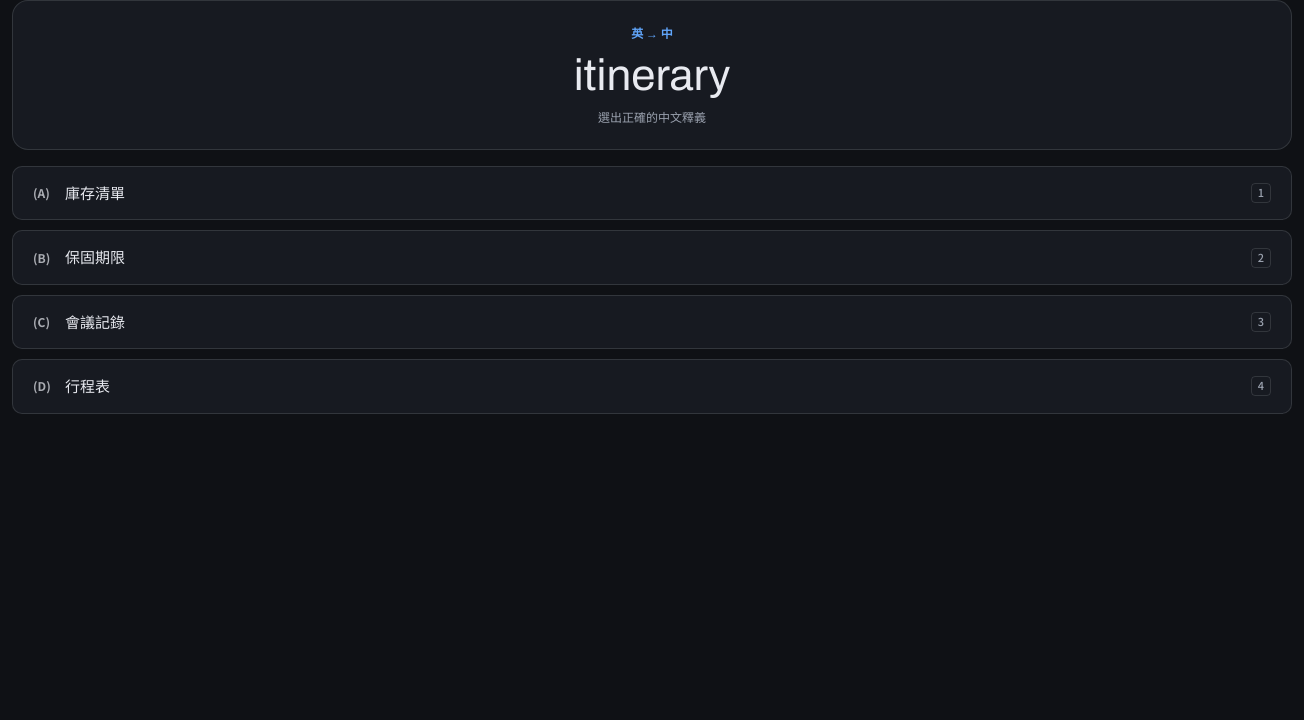
Test case: VocabQuiz › shows an explanation with the full example and its chinese once answered
Check: the text "解析" is not shown
Step 1. Click the button "(D) 行程表 4" → click(88, 386), box 12,359 -> 1292,414
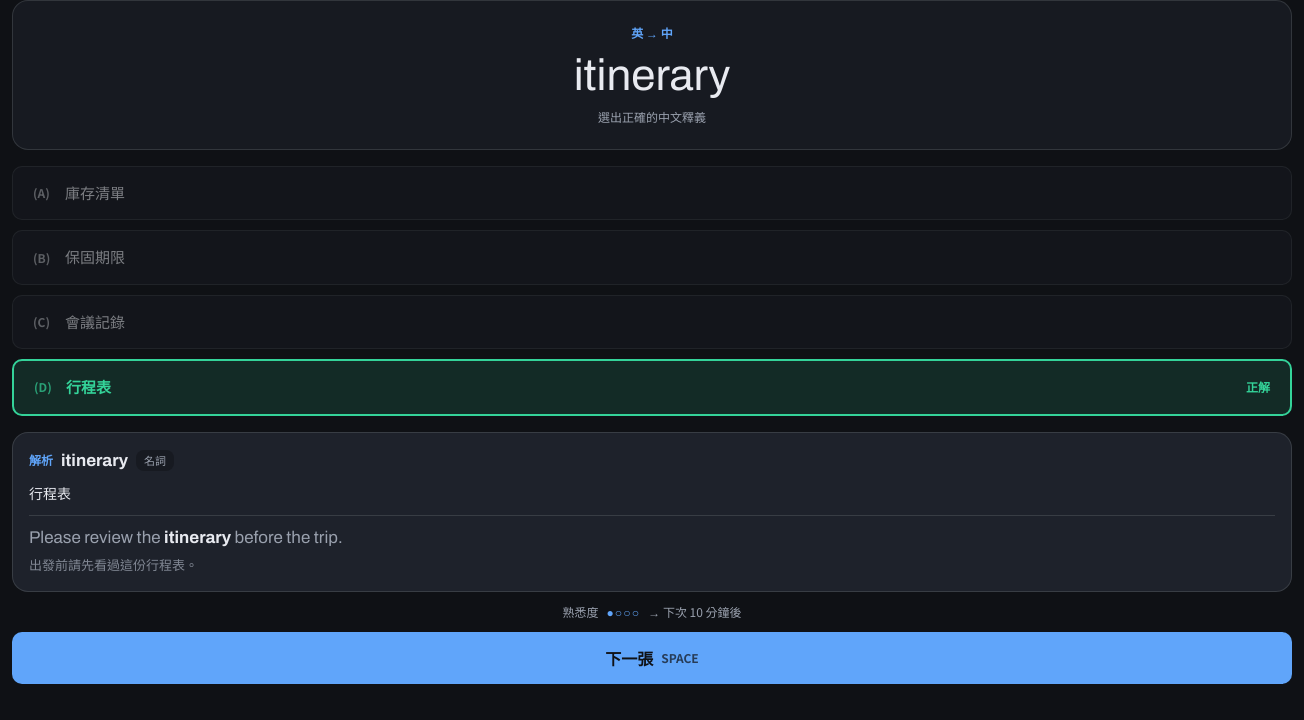
Check: the text "解析" is shown, box 29,452 -> 53,468
Check: the text "Please review the itinerary before the trip." is shown, box 29,528 -> 343,547
Check: the text "出發前請先看過這份行程表。" is shown, box 29,555 -> 198,574
